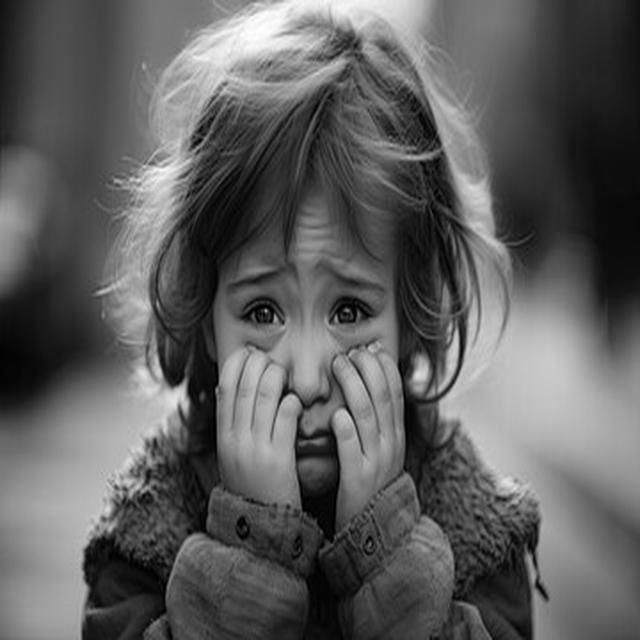Fear: (217, 177, 406, 496)
